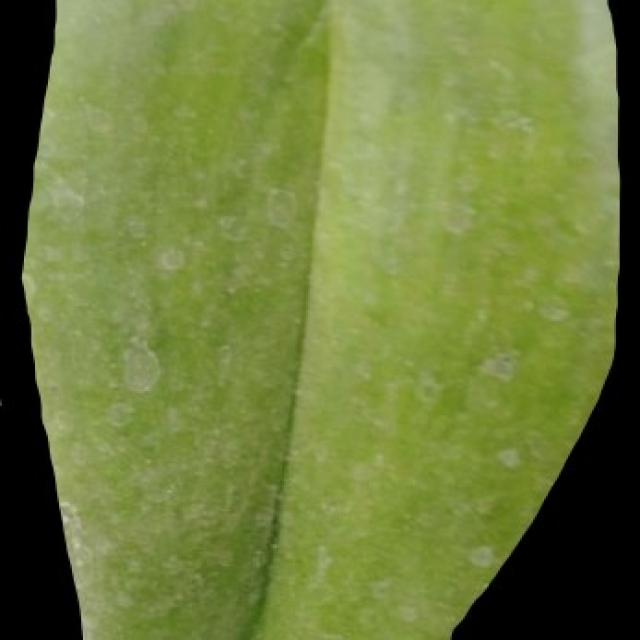mite: (113, 74, 531, 531), (467, 338, 527, 393), (118, 338, 162, 395), (262, 183, 299, 231), (476, 347, 520, 384), (465, 540, 498, 570), (153, 243, 186, 273), (0, 380, 15, 424), (0, 387, 6, 415)
spots: (24, 0, 623, 638)
